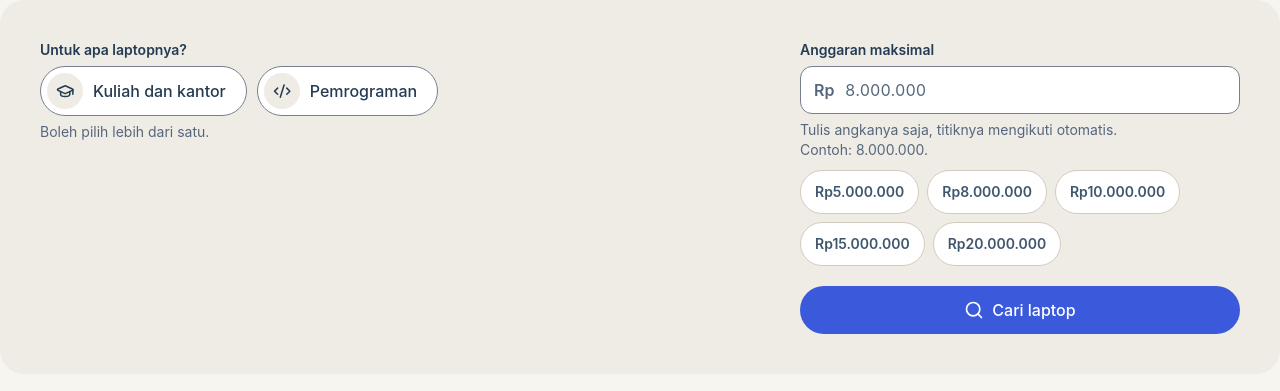
Test: QuickConsult › counts what is picked and says every pick has to fit at once
The image size is (1280, 391).
Expected: the text "Boleh pilih lebih dari satu." is shown, [40,123,209,140]
Click the checkbox labelled "Kuliah dan kantor" at (143, 91), box [40,66,247,116]
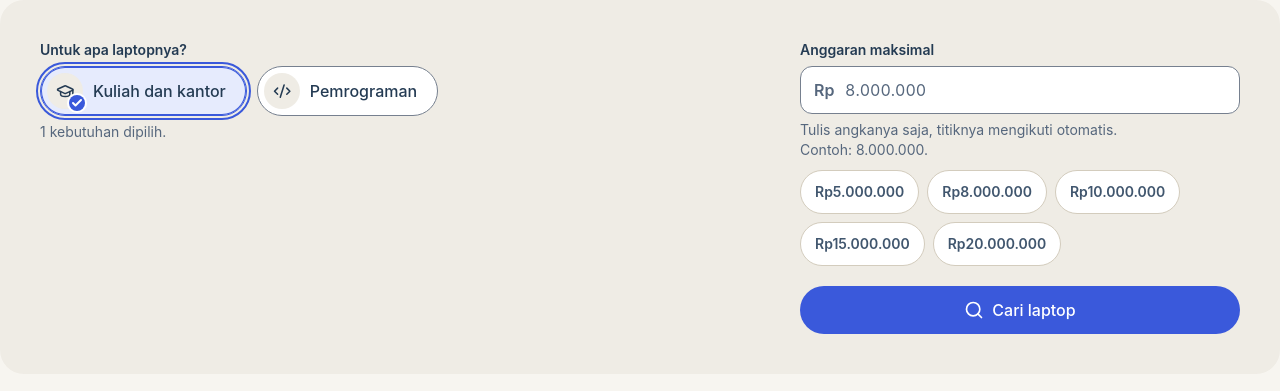
Expected: the text "1 kebutuhan dipilih." is shown, [40,123,166,140]
Click the checkbox labelled "Pemrograman" at (348, 91), box [257,66,438,116]
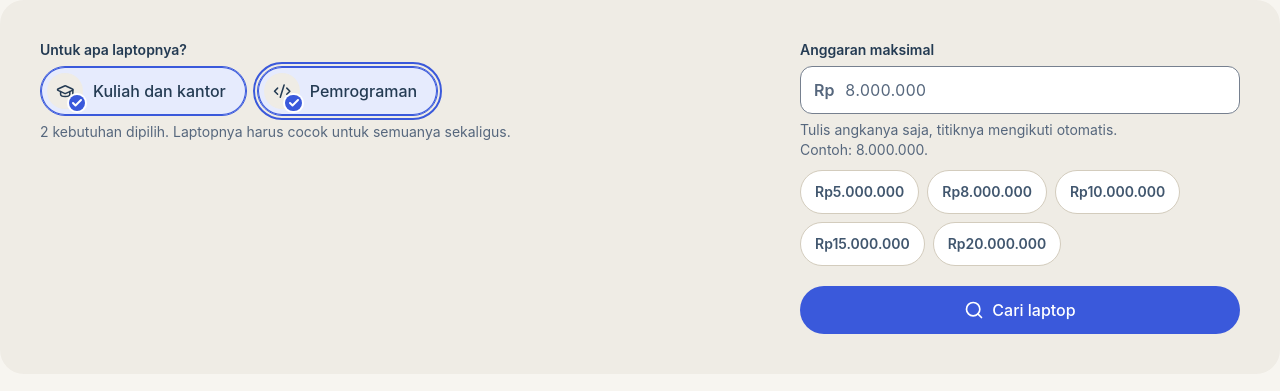
Expected: the text "2 kebutuhan dipilih. Laptopnya harus cocok untuk semuanya sekaligus" is shown, [40,123,511,140]
Click the checkbox labelled "Pemrograman" at (348, 91), box [257,66,438,116]
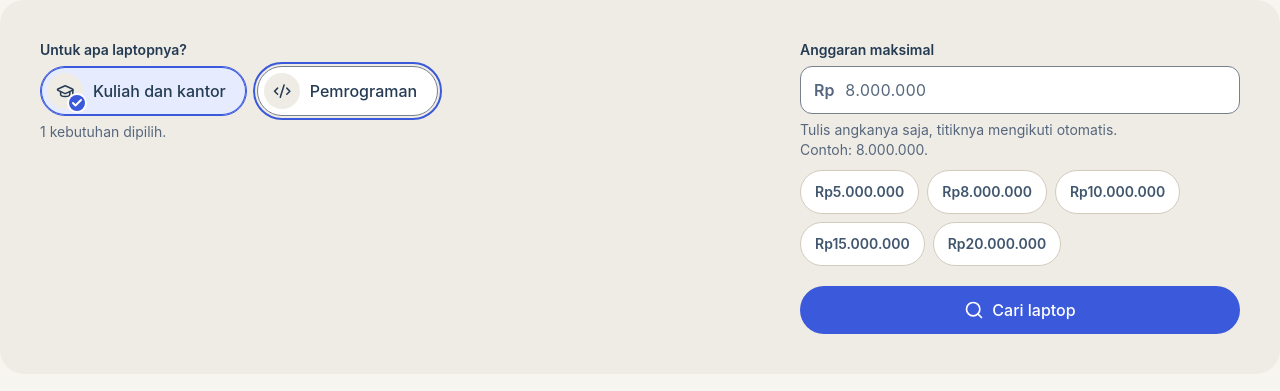
Expected: the text "1 kebutuhan dipilih." is shown, [40,123,166,140]
